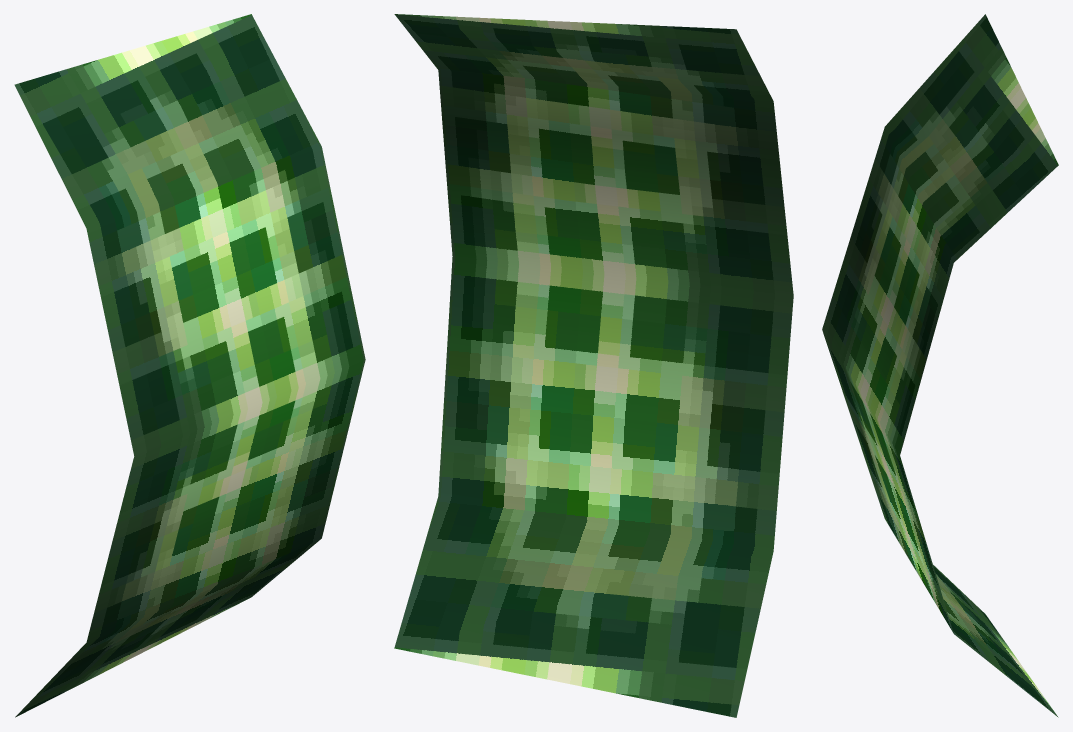
The model's file is acc_mask_eye.dae.
3 renders of one model, left to right at view 1: azimuth 30°, elevation 25°; view 2: azimuth 150°, elevation 25°; view 3: azimuth 270°, elevation 25°, orthographic. The views are drawn at different scales.
Parts seen in each view (by area): view 1: acc_mask_eye; view 2: acc_mask_eye; view 3: acc_mask_eye.
Part boxes in pixels (x1,y1,x2,y2): acc_mask_eye: [14, 14, 365, 717]; acc_mask_eye: [394, 14, 793, 717]; acc_mask_eye: [822, 14, 1058, 717].
Size of the model in its own units: 9.01 by 17.8 by 6.37.
Materials: 1 (1 with a texture image).
